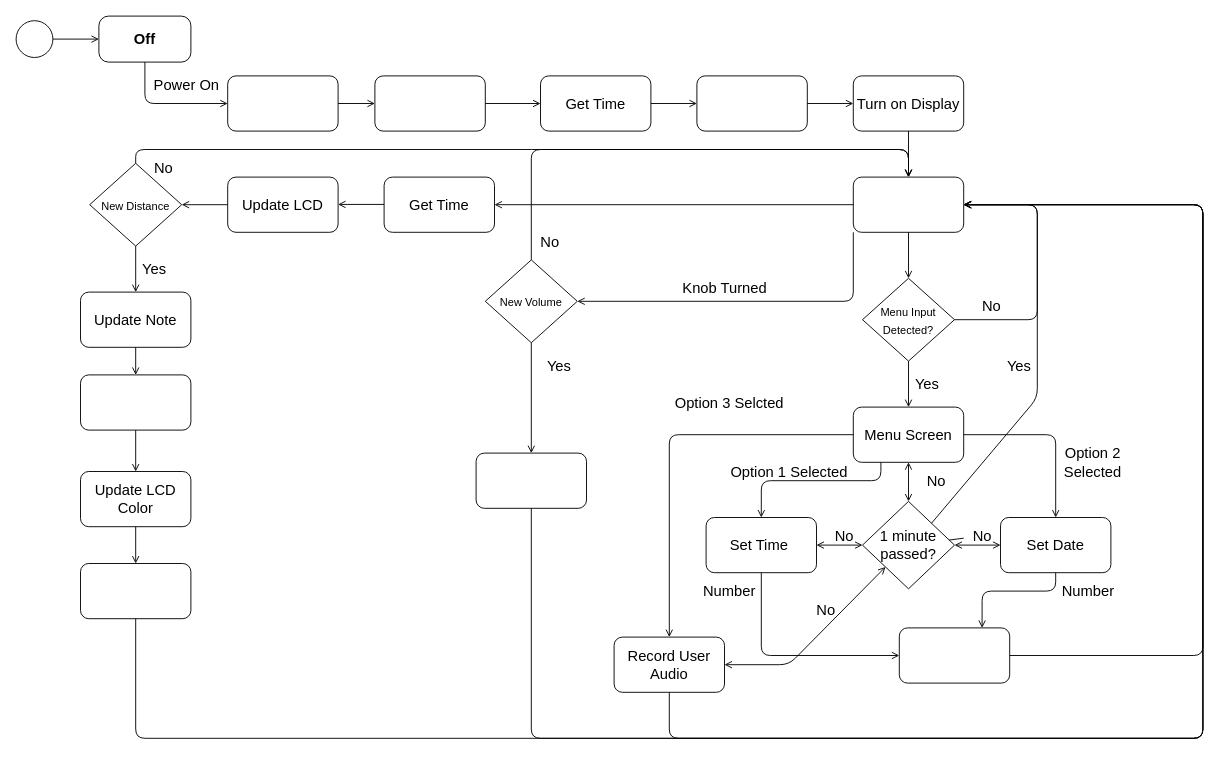
This 1226x762 diagram has some shape labels left out. The shapes that lost their labels are listed below. From the top down, each one's box as (x1, y1, x2, y2) in pixels, then its label:
(227, 75, 338, 131): Initialize functions
(374, 75, 485, 131): Get Distance
(696, 75, 807, 131): Set Volume
(852, 176, 964, 232): Default Screen
(80, 374, 191, 430): Update LED Color
(475, 452, 586, 508): Update Stepper Motor
(80, 563, 191, 619): Update Segment Display
(898, 627, 1010, 683): Update RTC
